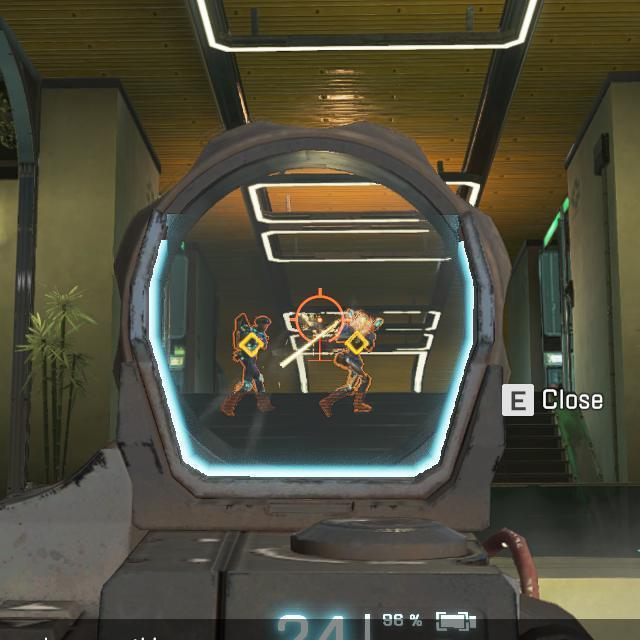avatar: (319, 308, 378, 418), (220, 312, 277, 416)
object: (239, 331, 265, 358), (345, 330, 369, 355)
